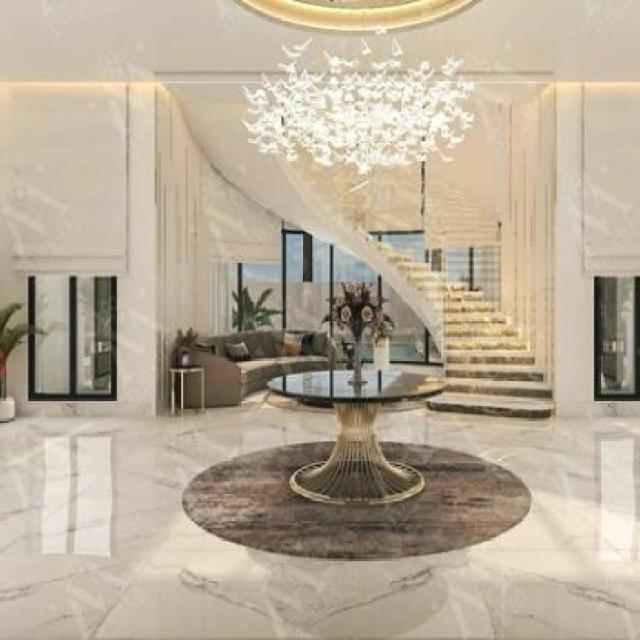stair: (403, 201, 606, 437)
